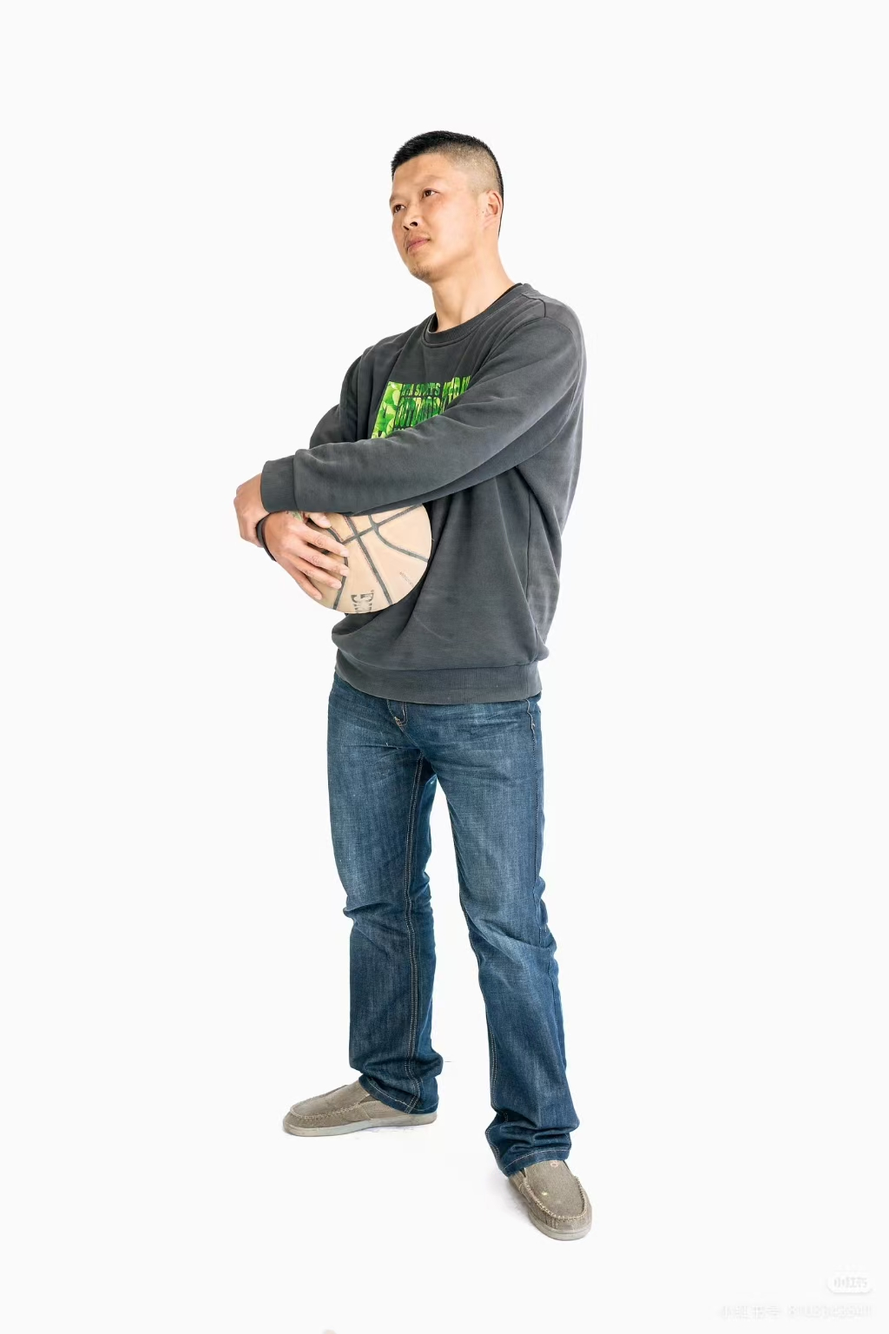up: (211, 102, 715, 1262)
